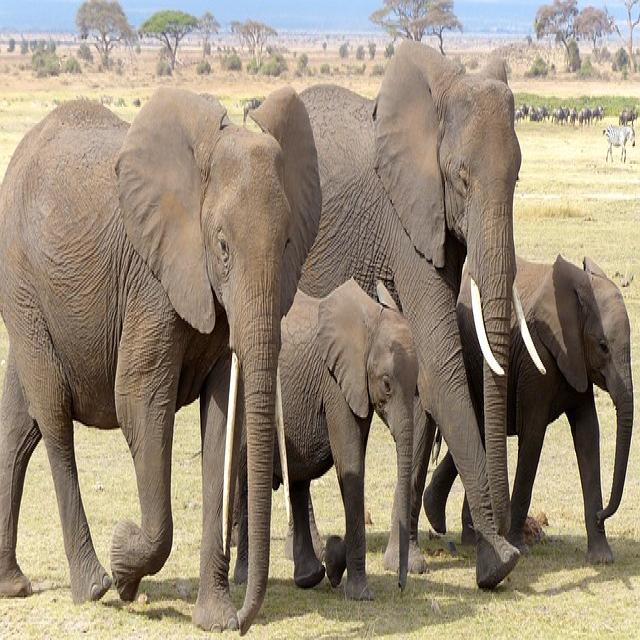elephant: (0, 89, 323, 635), (299, 41, 522, 592), (282, 280, 430, 601), (505, 257, 637, 565)
